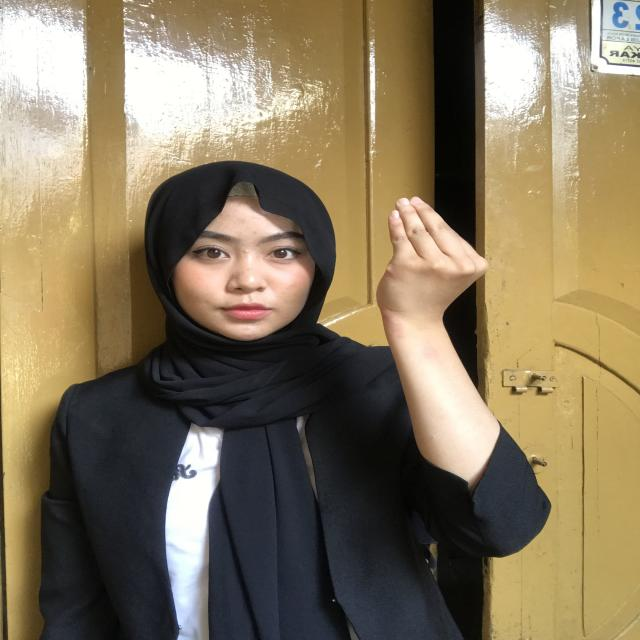kapan: (350, 182, 505, 398)
